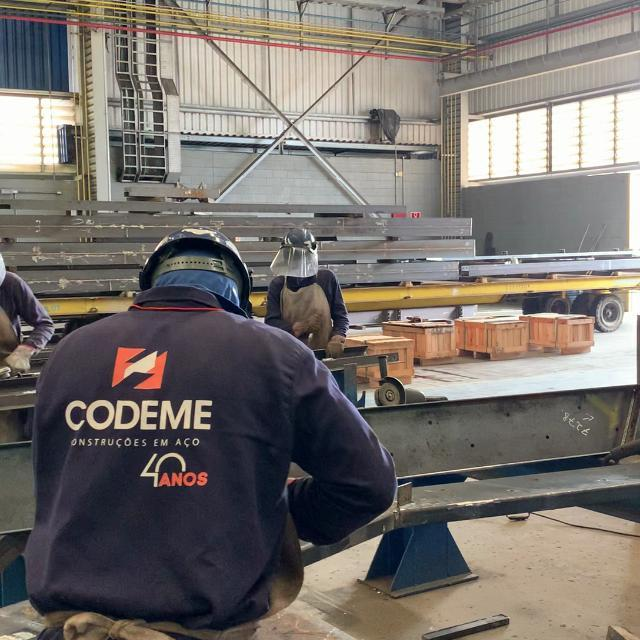eye-glass: (267, 246, 318, 280)
face-shield: (5, 342, 33, 374), (323, 336, 344, 358)
glove: (135, 228, 252, 299), (282, 227, 317, 250)
mask: (22, 226, 400, 638), (265, 227, 351, 360), (1, 254, 56, 374)
